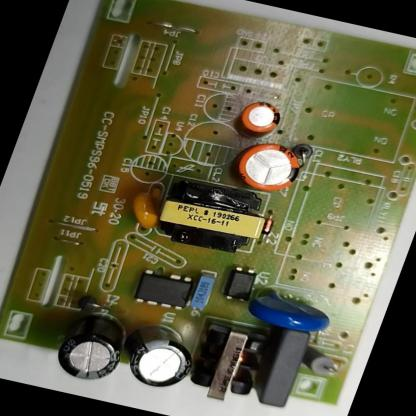Cap1: (227, 135, 311, 199)
Cap2: (232, 95, 286, 140)
Cap3: (115, 321, 207, 394)
Cap4: (45, 303, 138, 388)
MOSFET: (127, 264, 201, 318)
Mov: (242, 282, 340, 340)
Resistor: (300, 343, 346, 381)
Transformer: (148, 172, 278, 261), (181, 321, 277, 408)
